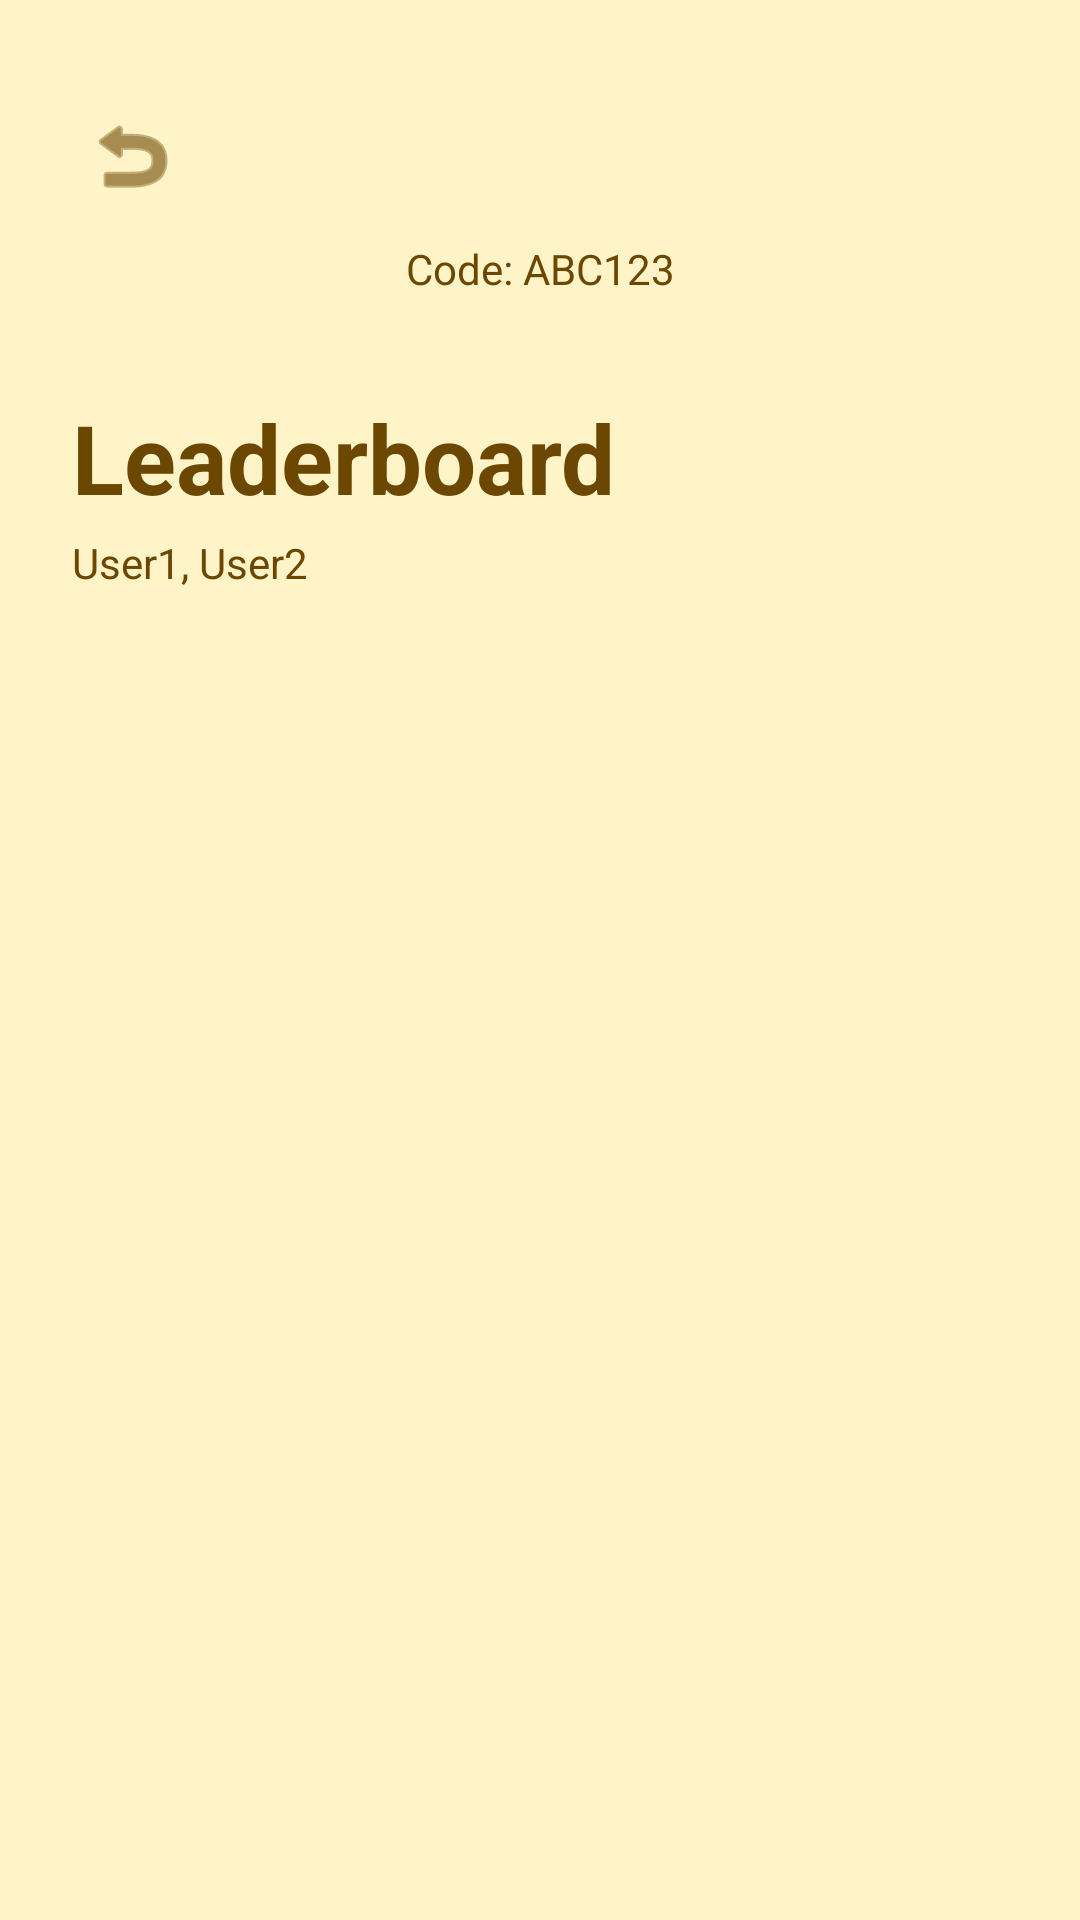

Screen size 1080 × 1920. Icon name, then its center in pixels as (x,y):
Back: (133,156)
